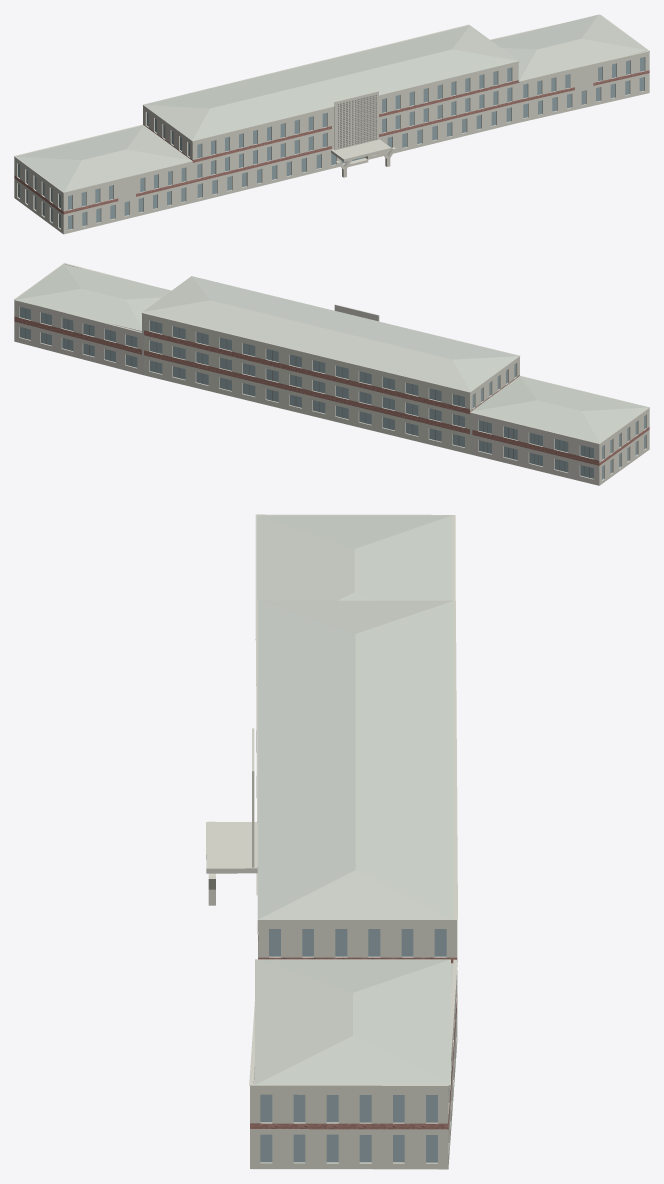
3 renders of one model, top to bottom at view 1: azimuth 30°, elevation 25°; view 2: azimuth 150°, elevation 25°; view 3: azimuth 270°, elevation 25°, orthographic. The views are drawn at different scales.
Parts seen in each view (by area): view 1: b115951776__roof, b115951776__wall, b115951776__glass, b115951776__trim, b115951776__wall2, b115951776__screenShadow, b115951776__parapet; view 2: b115951776__roof, b115951776__wall, b115951776__glass, b115951776__wall2, b115951776__trim, b115951776__parapet, b115951776__frame; view 3: b115951776__roof, b115951776__wall, b115951776__trim, b115951776__glass, b115951776__wall2, b115951776__parapet.
Part boxes in pixels (bbox=[...]): b115951776__roof: bbox=[15, 14, 647, 234]; b115951776__wall: bbox=[14, 53, 649, 234]; b115951776__glass: bbox=[18, 57, 644, 229]; b115951776__trim: bbox=[14, 14, 649, 193]; b115951776__wall2: bbox=[14, 70, 649, 214]; b115951776__screenShadow: bbox=[338, 95, 376, 148]; b115951776__parapet: bbox=[14, 38, 649, 194]; b115951776__roof: bbox=[14, 264, 648, 485]; b115951776__wall: bbox=[14, 301, 649, 485]; b115951776__glass: bbox=[19, 307, 645, 479]; b115951776__wall2: bbox=[14, 316, 649, 465]; b115951776__trim: bbox=[14, 263, 649, 444]; b115951776__parapet: bbox=[27, 264, 649, 445]; b115951776__frame: bbox=[25, 308, 589, 477]; b115951776__roof: bbox=[251, 515, 453, 1169]; b115951776__wall: bbox=[250, 731, 457, 1169]; b115951776__trim: bbox=[206, 514, 457, 1087]; b115951776__glass: bbox=[260, 929, 446, 1162]; b115951776__wall2: bbox=[250, 935, 457, 1129]; b115951776__parapet: bbox=[250, 921, 457, 1089].
Bounding box in the file's own units: 111 × 12.5 × 20.62.
Materials: 11 (1 with a texture image).
